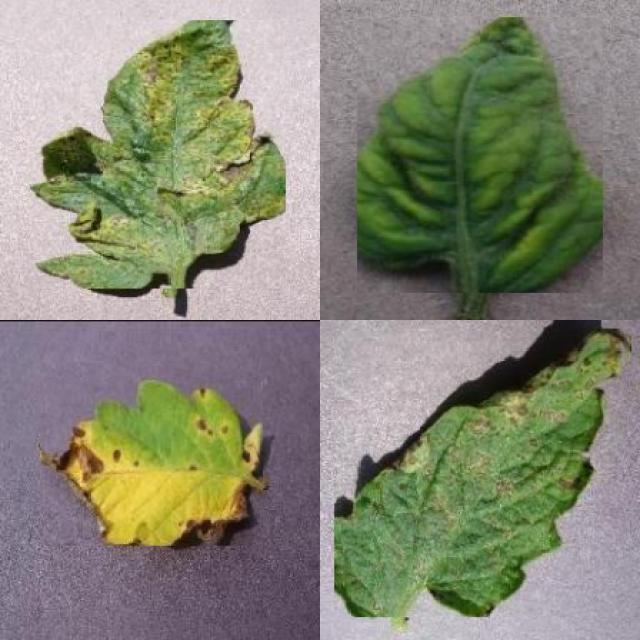Septoria: (335, 328, 631, 618), (30, 20, 286, 289), (40, 378, 263, 546)
Yellow Leaf Curl Virus: (357, 17, 603, 293)
